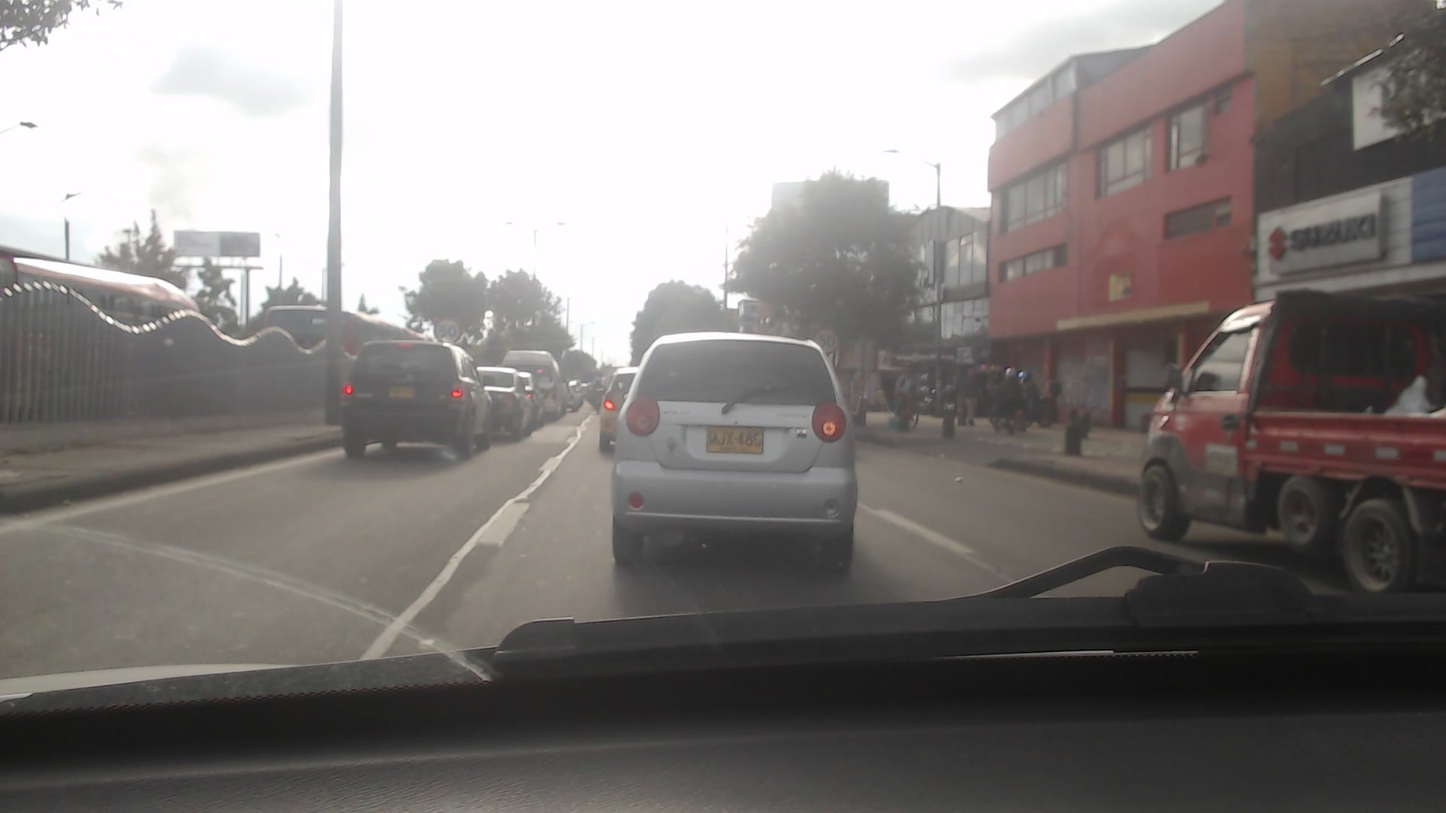car: (1130, 289, 1446, 596), (604, 325, 859, 573), (343, 335, 490, 466), (472, 362, 541, 441)
